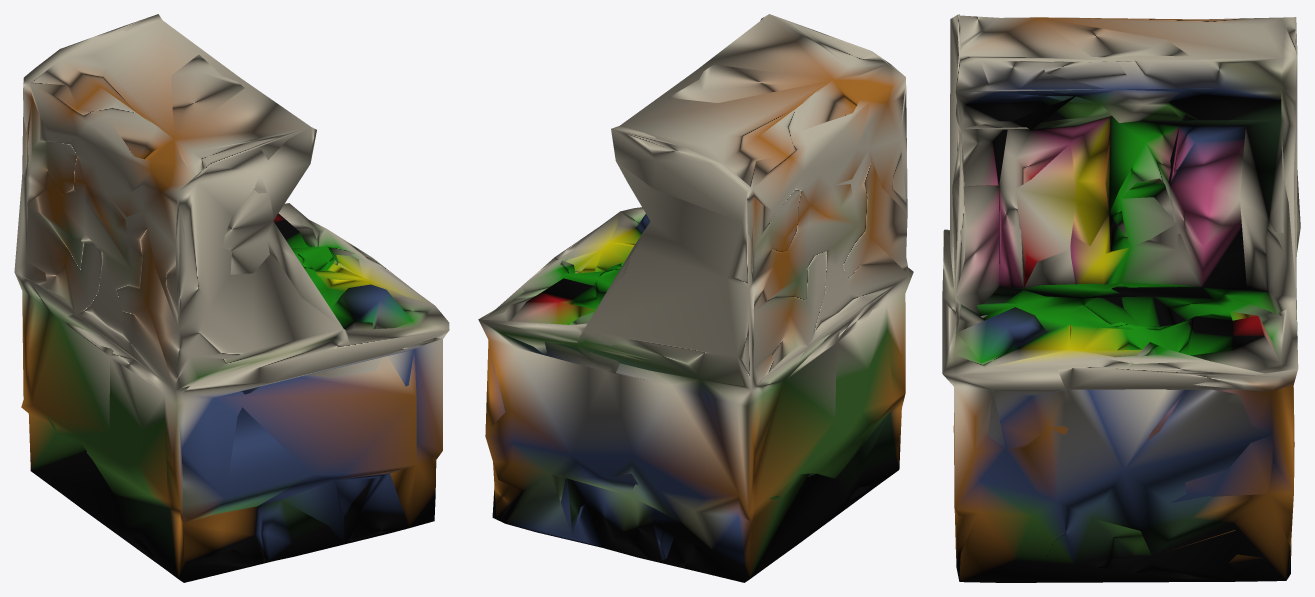
Rendered from gen3d-slot-machine-lod0.glb.
3 views of the same model, side by side, from view 1: azimuth 30°, elevation 25°; view 2: azimuth 150°, elevation 25°; view 3: azimuth 270°, elevation 25° (orthographic). The views are drawn at different scales.
Parts seen in each view (by area): view 1: part_0; view 2: part_0; view 3: part_0.
Boxes of the visible parts, left/top/right/bottom form: part_0: left=14, top=14, right=449, bottom=582; part_0: left=478, top=14, right=913, bottom=582; part_0: left=942, top=14, right=1300, bottom=582.
Bounding box in the file's own units: 0.6768 × 0.9947 × 0.6966.
